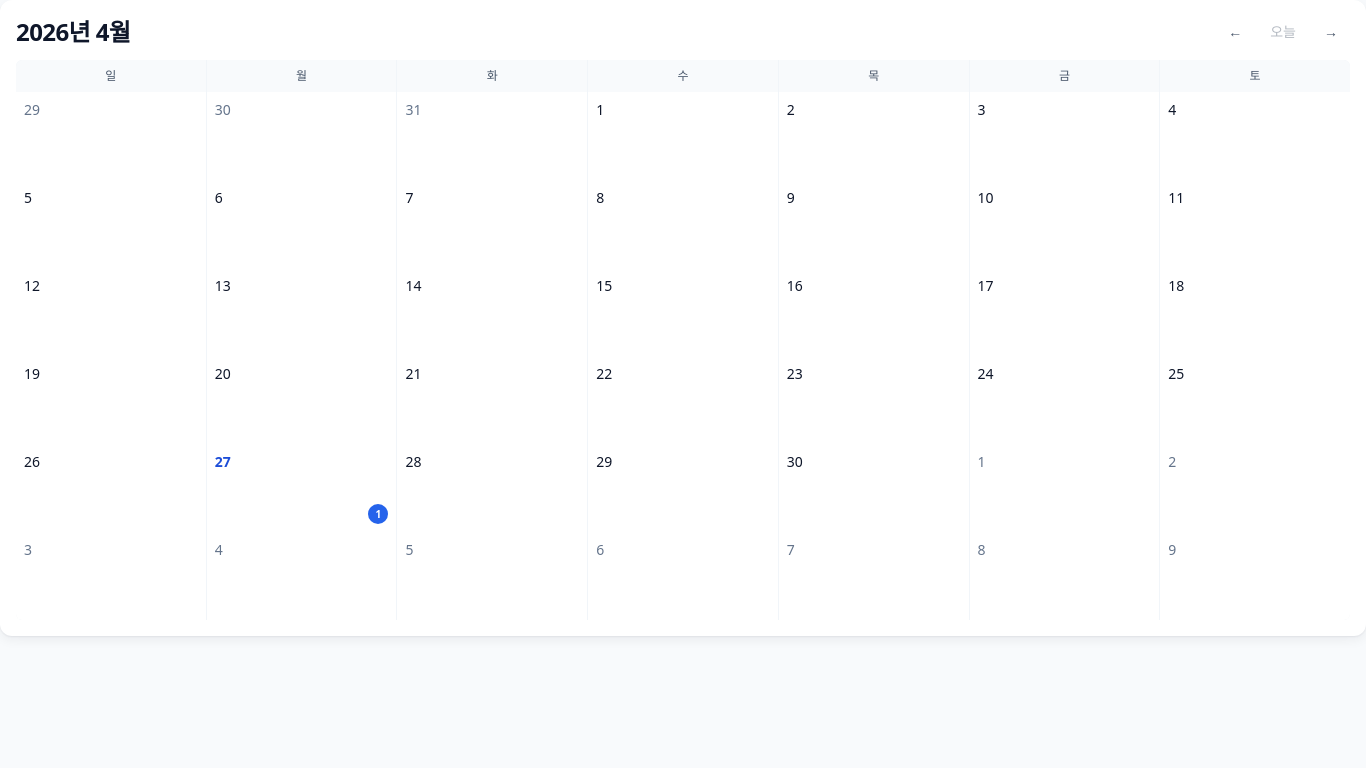
Test: Toggle todo flow (#12) › 미완료 0개면 배지가 사라진다
Click the cell labelled "27 1". click: (302, 488)
box: [207,444,396,532]
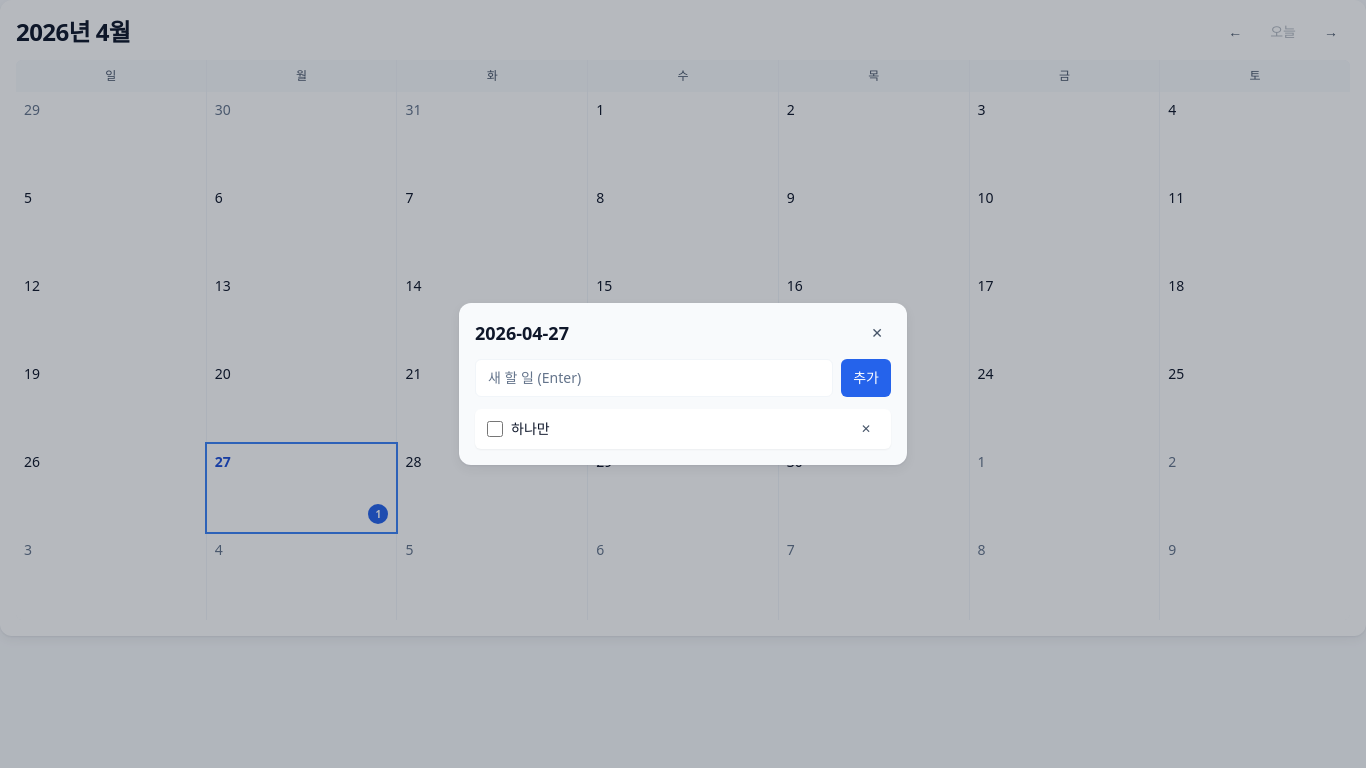
Click the checkbox with test id "todo-toggle". click: (495, 429)
box: [487,421,503,437]
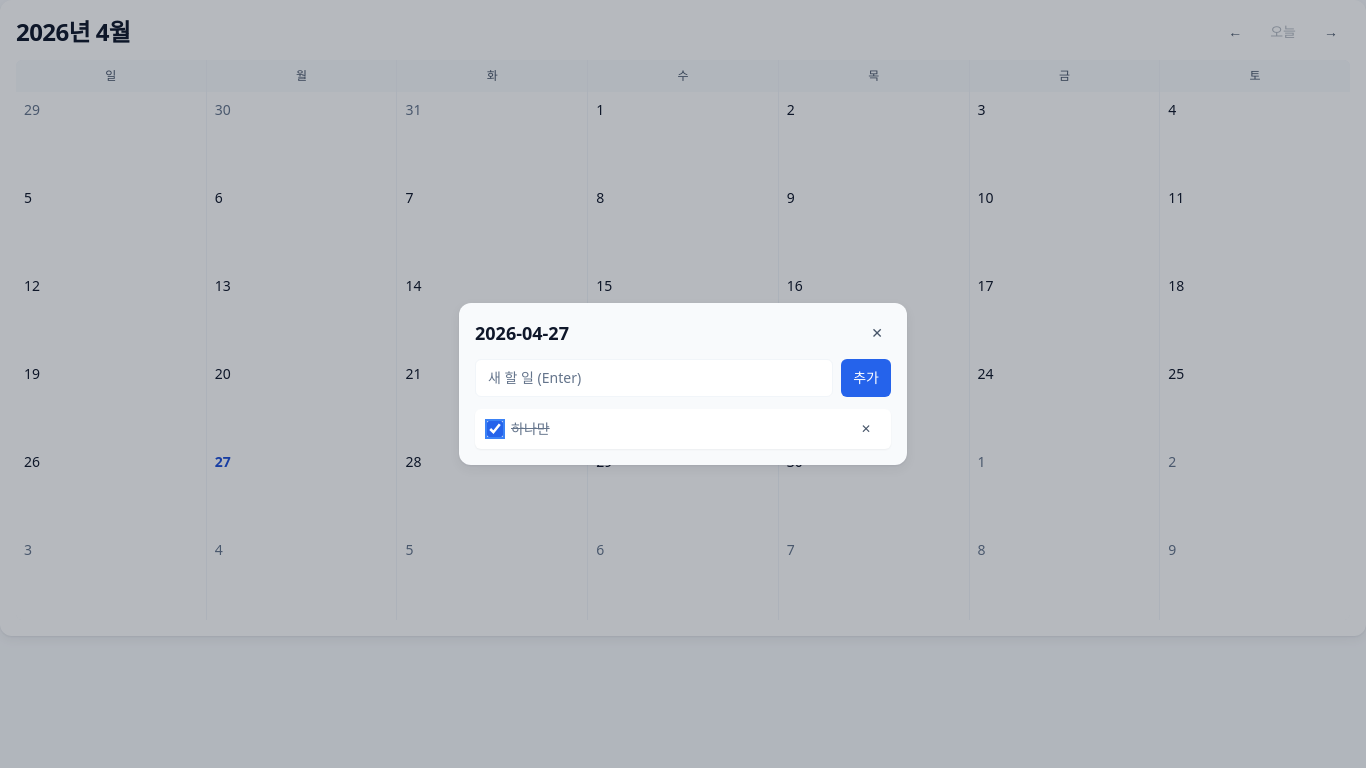
expect the text with test id "todo-count" is gone: met
